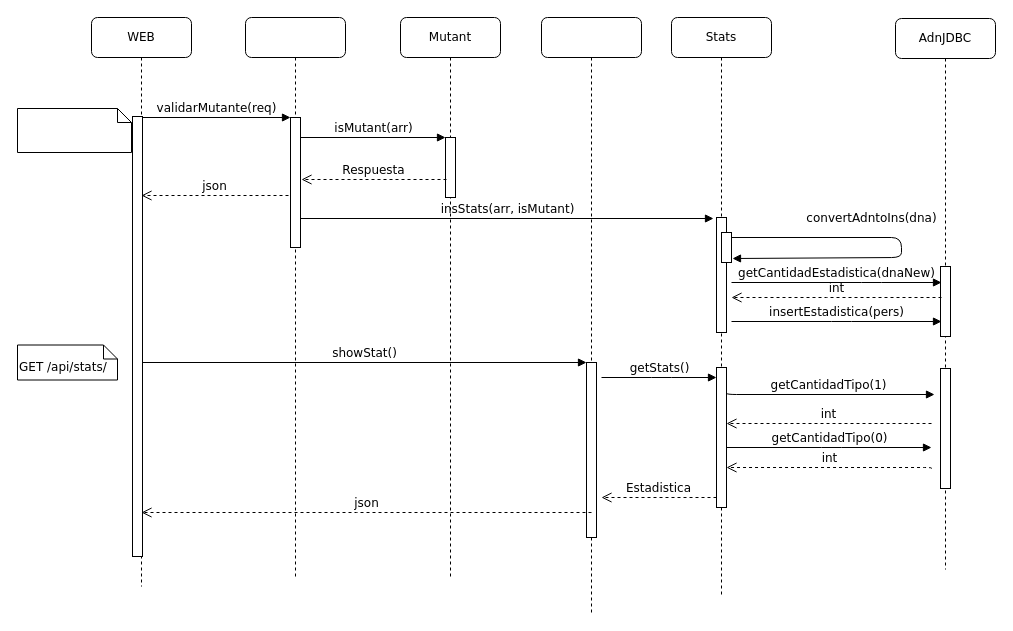
Some shapes in this 1013 by 631 pixel diagram are drawn without their labels. Each missing label, with the box of its shape:
Mutante: (244, 16, 346, 578)
POST /api/mutant/: (16, 108, 132, 152)
StatApi: (540, 16, 642, 614)
